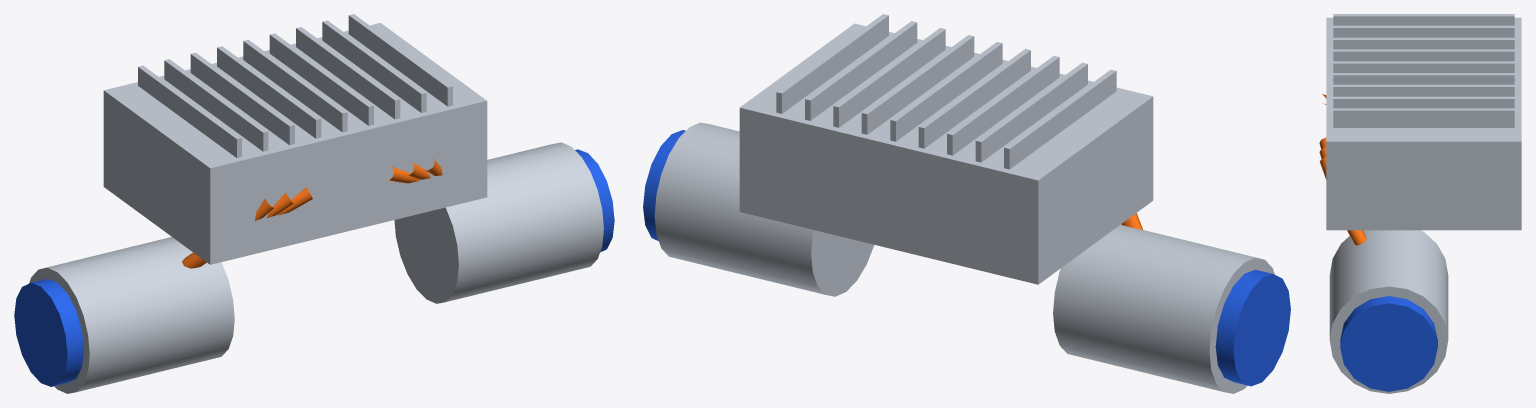
Rendered from hybrid_kers_inverter.glb.
3 renders of one model, left to right at view 1: azimuth 30°, elevation 25°; view 2: azimuth 150°, elevation 25°; view 3: azimuth 270°, elevation 25°, orthographic. The views are drawn at different scales.
Visible parts, largest first — view 1: Hybrid_KERS_Inverter_Assembly; view 2: Hybrid_KERS_Inverter_Assembly; view 3: Hybrid_KERS_Inverter_Assembly.
Part boxes in pixels (left/top/right/bottom): Hybrid_KERS_Inverter_Assembly: left=14, top=14, right=614, bottom=393; Hybrid_KERS_Inverter_Assembly: left=643, top=14, right=1290, bottom=393; Hybrid_KERS_Inverter_Assembly: left=1319, top=14, right=1521, bottom=393.
Size of the model in its own units: 0.83 by 0.3425 by 0.2897.
